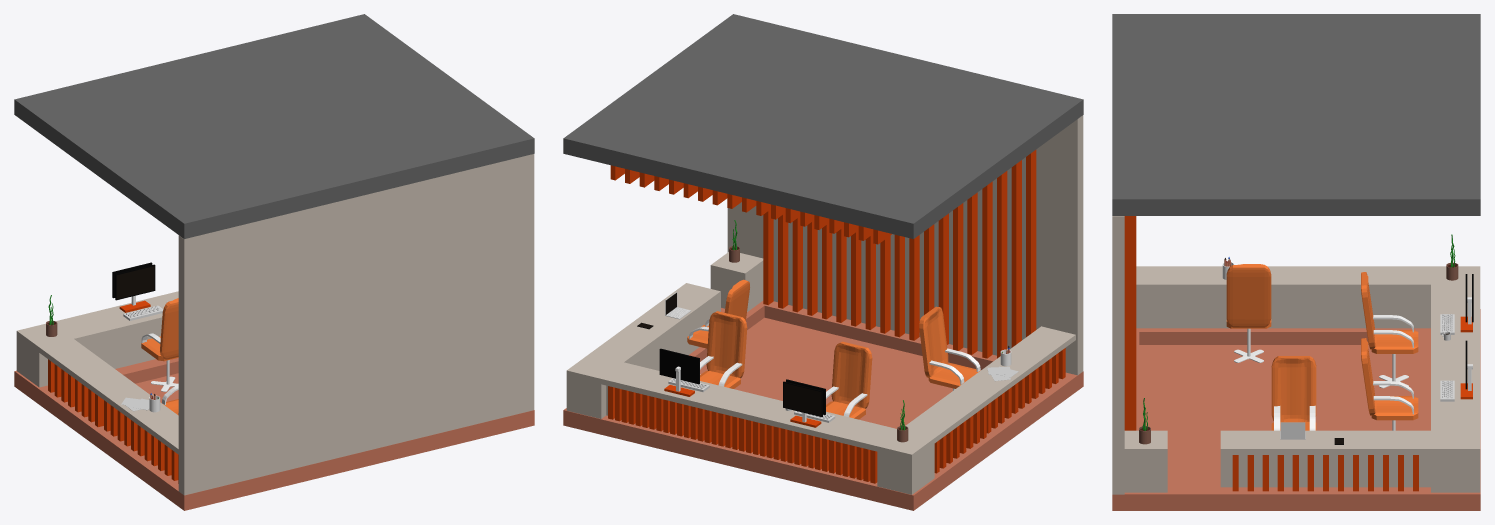
Rendered from help deck.fbx.
The picture shows the model from 3 angles, left to right: view 1: azimuth 30°, elevation 25°; view 2: azimuth 150°, elevation 25°; view 3: azimuth 270°, elevation 25°; orthographic projection. The views are drawn at different scales.
Parts seen in each view (by area): view 1: Cube.398, Cube.397, Cube.302, Cube.396, Cube.297, Cube.294; view 2: Cube.397, Cube.302, Cube.396, Cube.398, Cube.294, Cube.415, Cube.377, Cube.378, Cube.379, Cube.380, Cube.395, Cube.394 (+18 smaller); view 3: Cube.397, Cube.396, Cube.302, Cube.398, Cube.170, Cube.405, Cube.381, Cube.416, Cube.295, Cube.415, Cube.294, Cube.402.
Part boxes in pixels (x1,y1,x2,y2): Cube.398: [178, 154, 534, 495]; Cube.397: [14, 14, 534, 238]; Cube.302: [14, 358, 534, 510]; Cube.396: [16, 291, 178, 454]; Cube.297: [115, 264, 155, 300]; Cube.294: [160, 298, 178, 359]; Cube.397: [563, 14, 1083, 238]; Cube.302: [563, 301, 1083, 510]; Cube.396: [566, 252, 1075, 494]; Cube.398: [727, 115, 1083, 375]; Cube.294: [831, 341, 872, 408]; Cube.415: [706, 311, 747, 378]; Cube.377: [873, 150, 1036, 337]; Cube.378: [858, 160, 1021, 347]; Cube.379: [844, 171, 1007, 358]; Cube.380: [829, 181, 992, 358]; Cube.395: [814, 192, 977, 354]; Cube.394: [800, 203, 963, 350]; Cube.397: [1112, 14, 1480, 215]; Cube.396: [1124, 266, 1480, 492]; Cube.302: [1112, 309, 1480, 510]; Cube.398: [1112, 216, 1124, 494]; Cube.170: [1226, 264, 1271, 327]; Cube.405: [1271, 356, 1316, 421]; Cube.381: [1124, 216, 1136, 430]; Cube.416: [1371, 396, 1418, 420]; Cube.295: [1371, 330, 1418, 353]; Cube.415: [1361, 338, 1375, 415]; Cube.294: [1361, 272, 1375, 349]; Cube.402: [1280, 422, 1305, 438].
Size of the model in its own units: 776 by 608 by 652.
